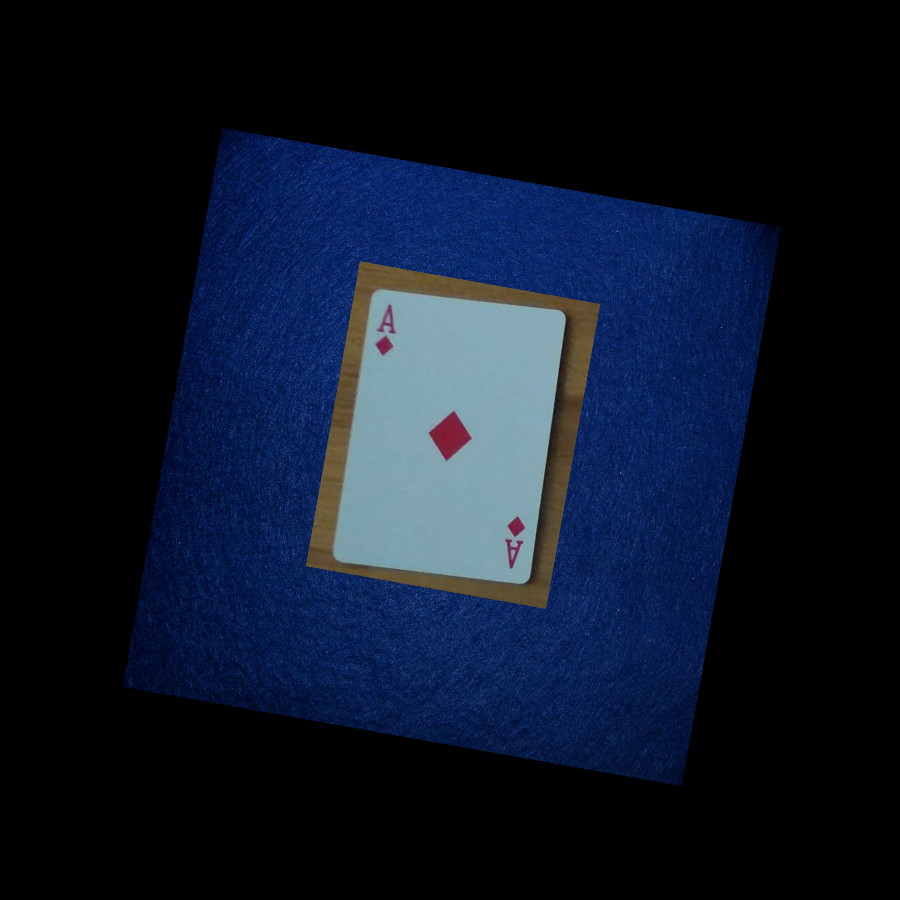1F: (486, 500, 539, 583), (364, 287, 409, 371)
